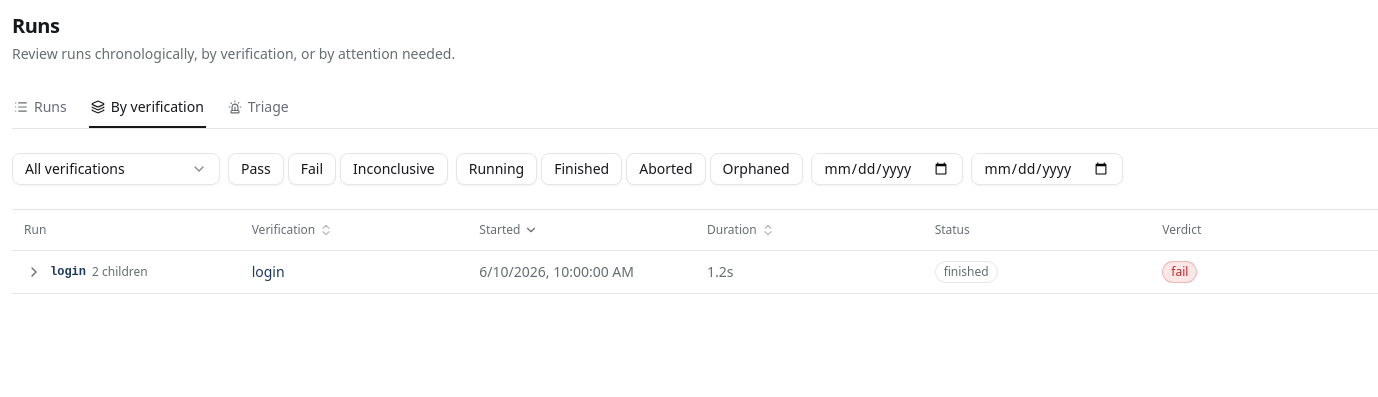
RunsList › preserves the collapsible server grouping in By verification
Expected: the text "01JRUNA" is not shown
Click the button named "Expand": (34, 272) [24,262,44,282]
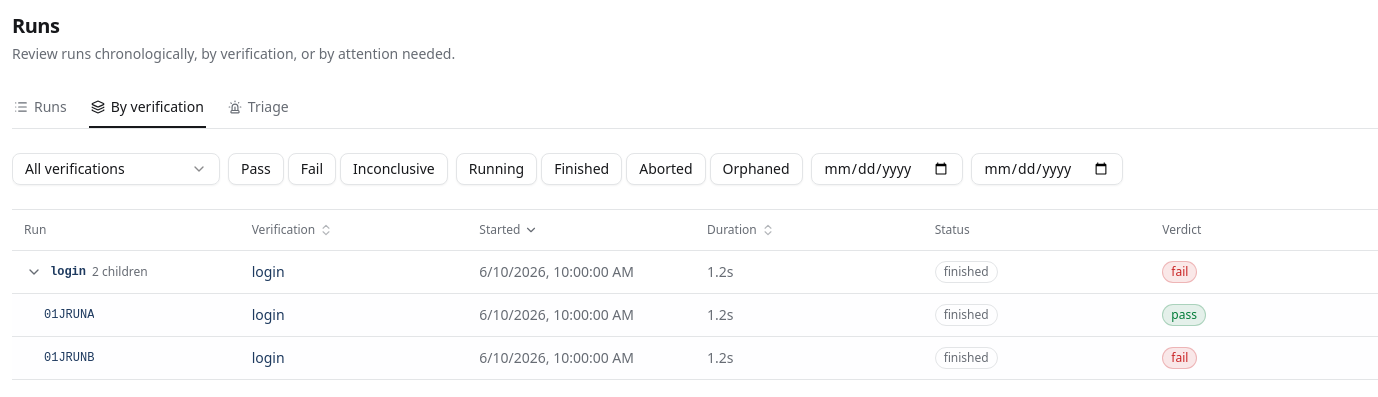
Result: the link "01JRUNA" is shown at [44,306,94,322]
